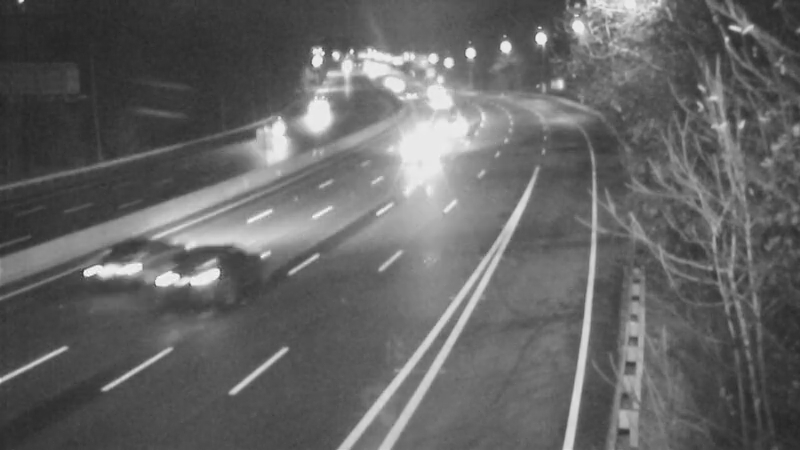vehicle: (173, 232, 253, 312), (78, 224, 158, 304), (370, 61, 420, 111), (410, 64, 460, 114), (385, 71, 435, 121), (419, 78, 469, 128), (433, 99, 483, 149), (401, 119, 451, 169), (251, 108, 301, 158), (292, 85, 342, 135)
